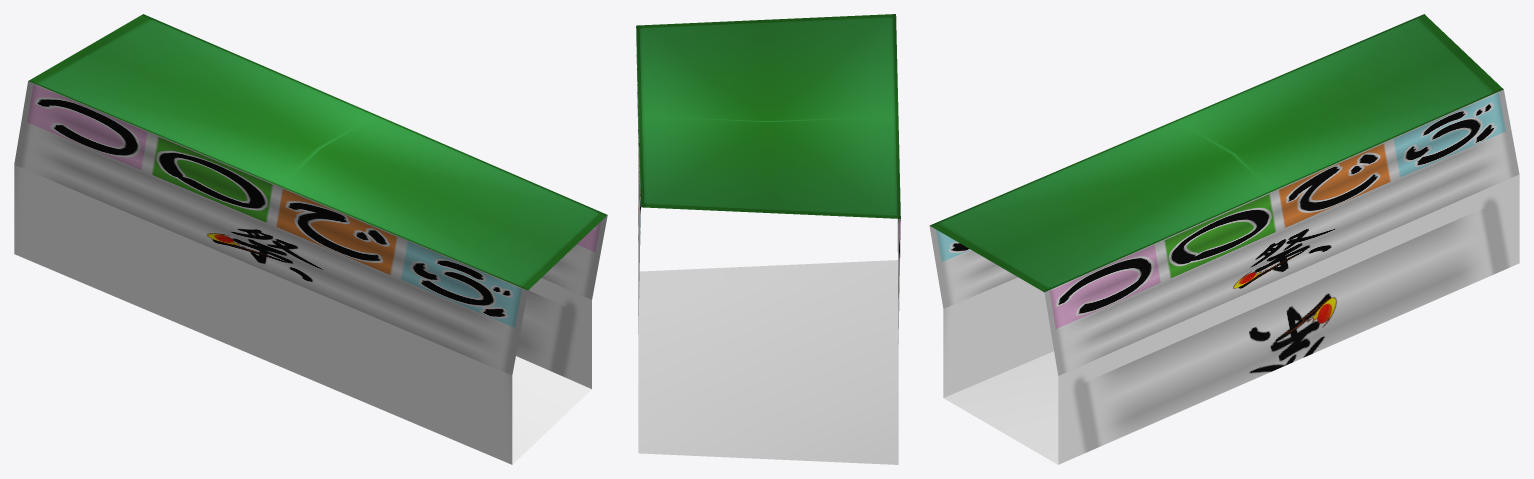
Rendered from CourseAki_Wall_R_7_8.fbx.
The picture shows the model from 3 angles, left to right: view 1: azimuth 30°, elevation 25°; view 2: azimuth 150°, elevation 25°; view 3: azimuth 270°, elevation 25°; orthographic projection. The views are drawn at different scales.
Visible parts, largest first — view 1: polySurface416; view 2: polySurface416; view 3: polySurface416.
Boxes of the visible parts, x1,y1,x2,y2 form: polySurface416: (14, 14, 607, 464); polySurface416: (636, 14, 900, 464); polySurface416: (929, 14, 1519, 464).
Bounding box in the file's own units: 4.63 × 2.98 × 6.
Materials: 1 (1 with a texture image).
